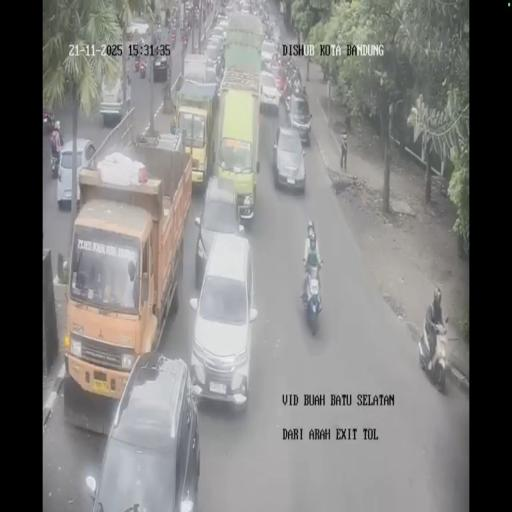3: (64, 131, 191, 416), (211, 80, 261, 224), (172, 66, 218, 194), (221, 9, 265, 83)
car: (188, 233, 258, 408), (56, 138, 94, 210), (99, 71, 128, 125), (288, 90, 312, 144), (204, 34, 225, 80), (259, 70, 280, 112), (152, 51, 170, 83), (126, 18, 150, 38), (260, 40, 276, 68), (216, 13, 230, 33), (241, 5, 250, 14)
truck: (419, 313, 448, 392), (301, 258, 323, 334), (280, 54, 298, 88), (50, 145, 60, 178), (262, 20, 274, 40), (272, 33, 280, 54), (192, 6, 200, 26), (170, 13, 178, 32), (284, 90, 290, 114), (184, 17, 192, 34), (139, 59, 146, 78), (153, 26, 162, 40), (181, 29, 187, 49), (170, 32, 176, 50), (126, 68, 131, 86)
